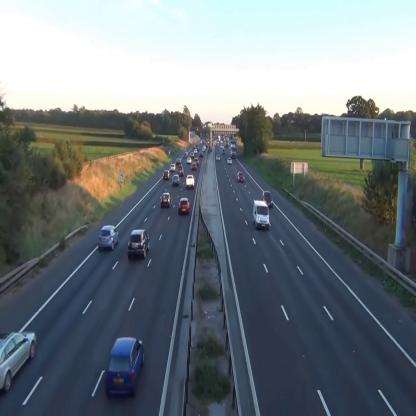car: (106, 335, 144, 398), (0, 330, 37, 392), (128, 228, 150, 260), (98, 224, 119, 250), (261, 189, 273, 207), (178, 198, 190, 214), (161, 192, 171, 208), (186, 175, 195, 187), (172, 174, 180, 185), (163, 169, 170, 179), (237, 172, 245, 180), (178, 168, 184, 176), (170, 164, 176, 171), (186, 157, 192, 164), (192, 162, 196, 171), (177, 158, 182, 165), (227, 157, 232, 164), (216, 154, 221, 160)
lorry: (254, 198, 270, 230)
